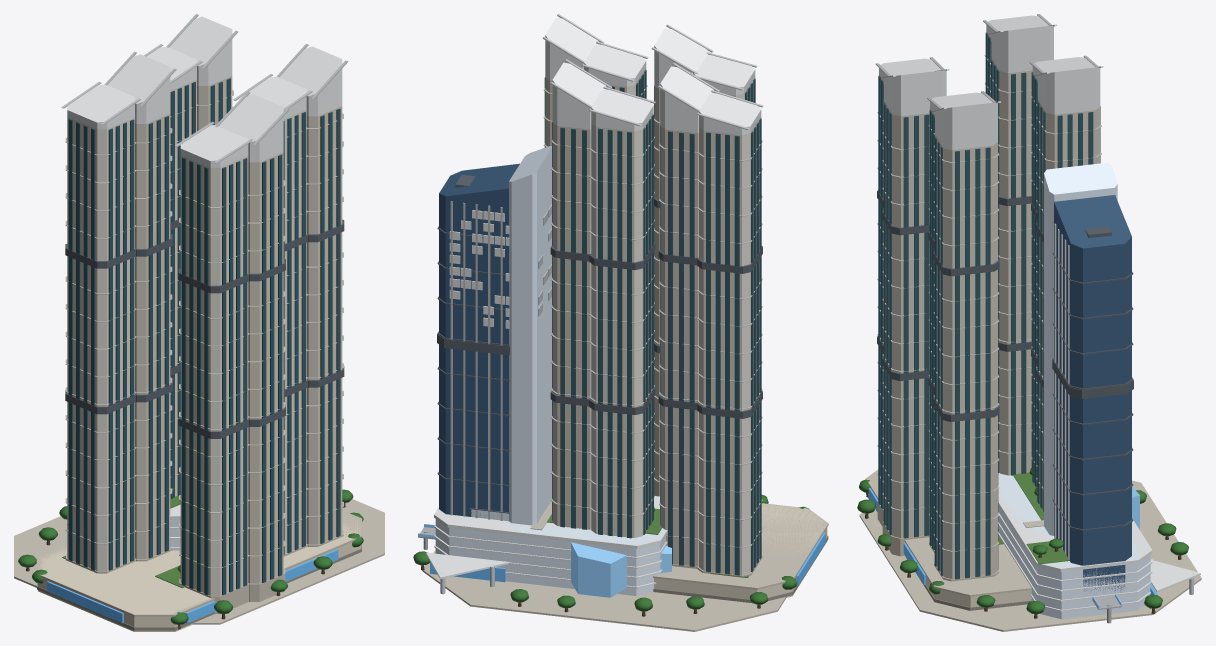
Rendered from cheongnyangni-skyl65.glb.
3 views of the same model, side by side, from view 1: azimuth 30°, elevation 25°; view 2: azimuth 150°, elevation 25°; view 3: azimuth 270°, elevation 25° (orthographic).
Bounding box in the file's own units: 163 × 226 × 142.
